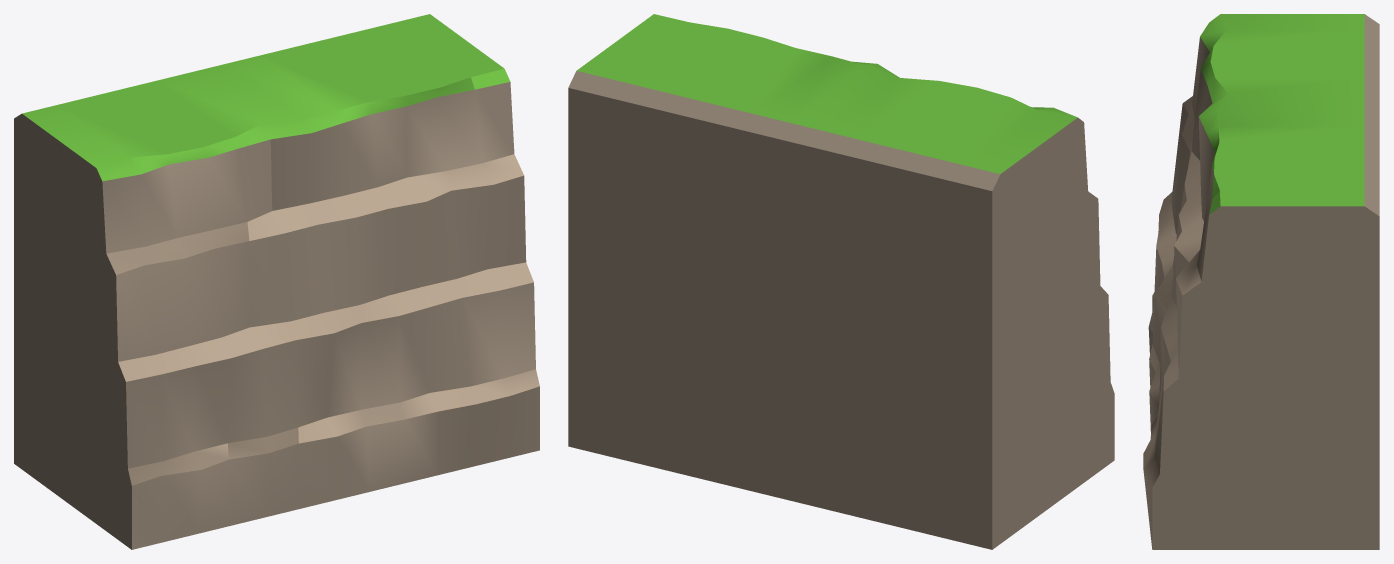
Rendered from cliff-a.glb.
3 views of the same model, side by side, from view 1: azimuth 30°, elevation 25°; view 2: azimuth 150°, elevation 25°; view 3: azimuth 270°, elevation 25° (orthographic). The views are drawn at different scales.
Visible parts, largest first — view 1: cliff-a; view 2: cliff-a; view 3: cliff-a.
Boxes of the visible parts, <box> form: cliff-a: <box>14,14,539,549</box>; cliff-a: <box>568,14,1114,549</box>; cliff-a: <box>1143,14,1379,549</box>.
Bounding box in the file's own units: 12 × 10 × 6.24.
